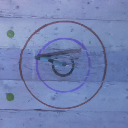Axe Tip: (39, 55, 52, 57)
